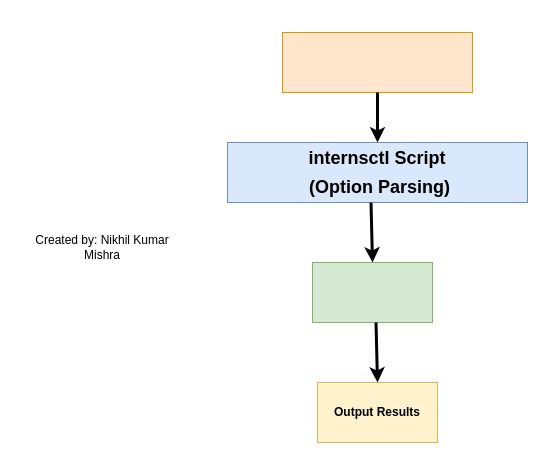
The diagram is 545 pixels wide and 460 high, and some of its shapes have lost their labels. Each missing label, with the centre of its shape:
"Execute Command (Perform Actions)" goes at [372,292].
"User's Request" goes at [377,62].
